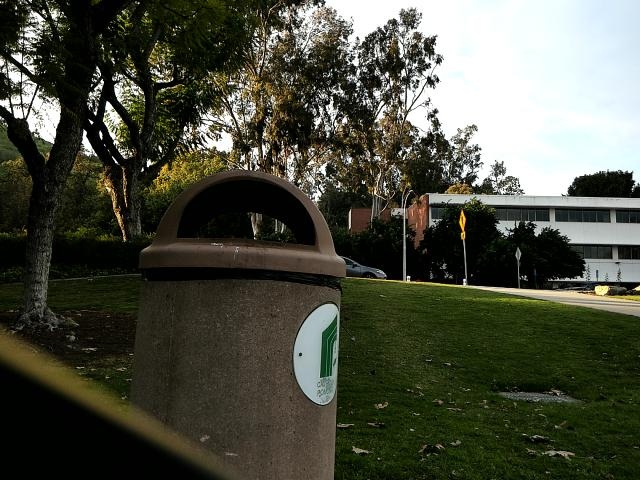trashcan: (132, 165, 357, 480)
